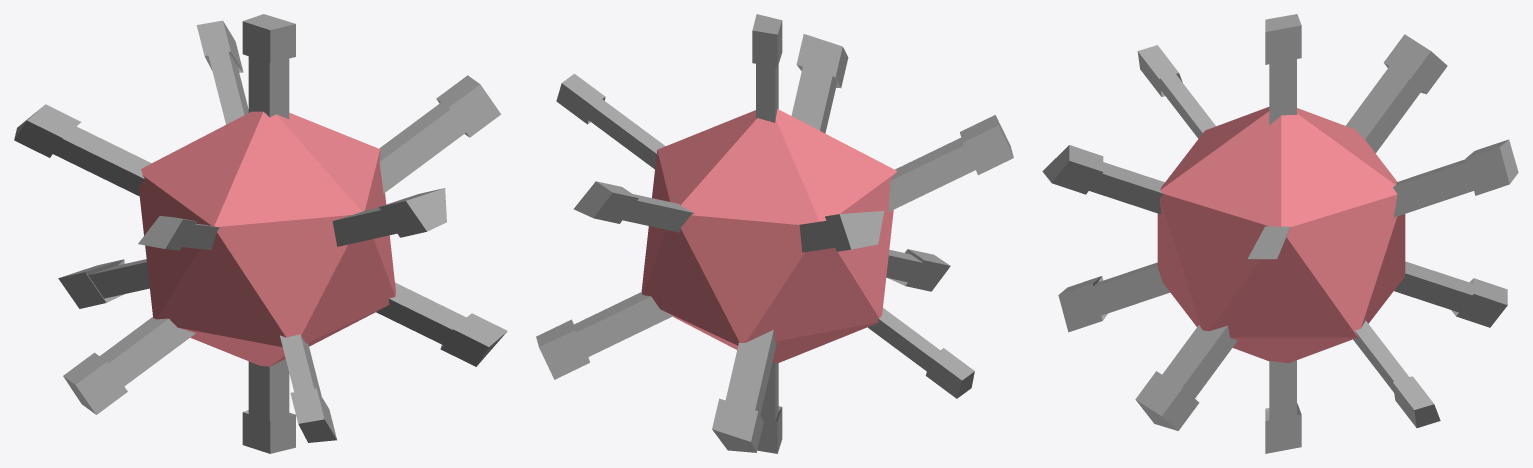
Rendered from TD_Model_Mine.fbx.
The picture shows the model from 3 angles, left to right: view 1: azimuth 30°, elevation 25°; view 2: azimuth 150°, elevation 25°; view 3: azimuth 270°, elevation 25°; orthographic projection.
Visible parts, largest first — view 1: Mesh_Mine; view 2: Mesh_Mine; view 3: Mesh_Mine.
Part boxes in pixels (<box>): Mesh_Mine: <box>14,14,507,453</box>; Mesh_Mine: <box>536,14,1013,453</box>; Mesh_Mine: <box>1042,14,1518,453</box>.
Bounding box in the file's own units: 329 × 320 × 327.
